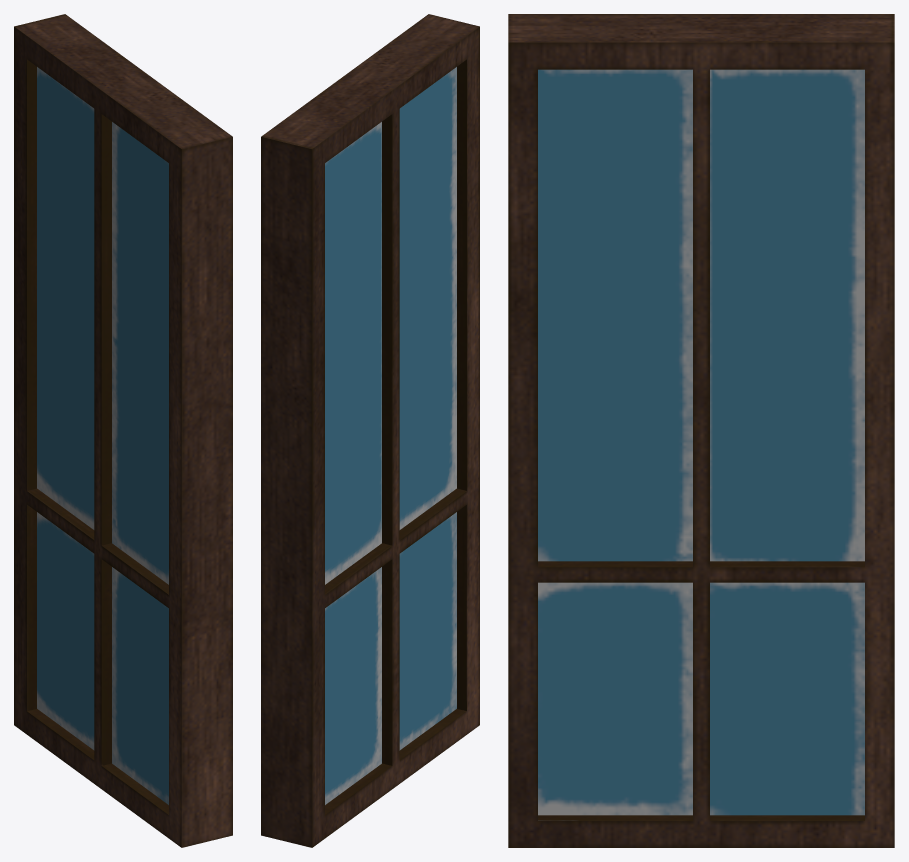
File: Okno fix.fbx
3 renders of one model, left to right at view 1: azimuth 30°, elevation 25°; view 2: azimuth 150°, elevation 25°; view 3: azimuth 270°, elevation 25°, orthographic. The views are drawn at different scales.
Parts seen in each view (by area): view 1: Dvere stena.034; view 2: Dvere stena.034; view 3: Dvere stena.034.
Boxes of the visible parts, x1,y1,x2,y2 form: Dvere stena.034: (14,14,232,847); Dvere stena.034: (261,14,479,847); Dvere stena.034: (508,14,894,847).
Bounding box in the file's own units: 7.9 × 103 × 44.81.
